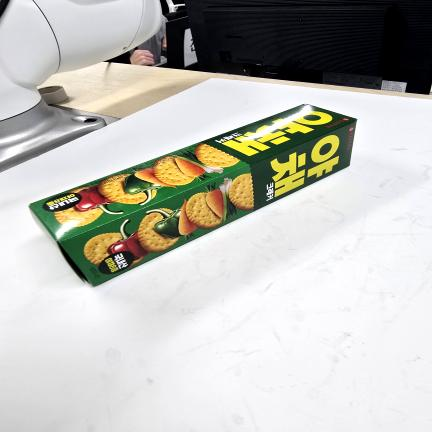cracker_vege: (30, 104, 357, 286)
